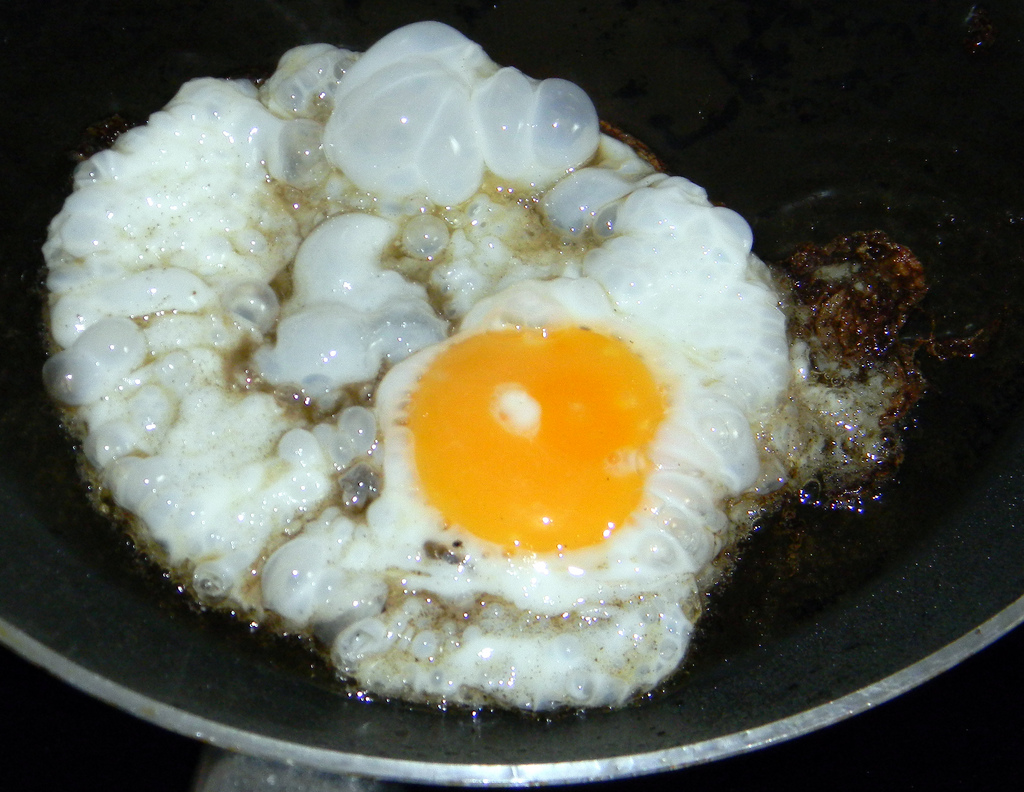fried egg: (130, 129, 735, 642)
